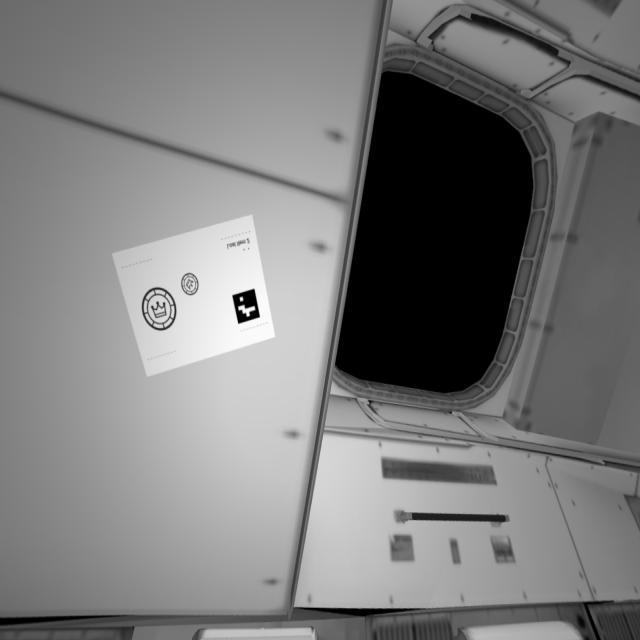coin: (139, 285, 184, 337), (178, 265, 204, 302)
